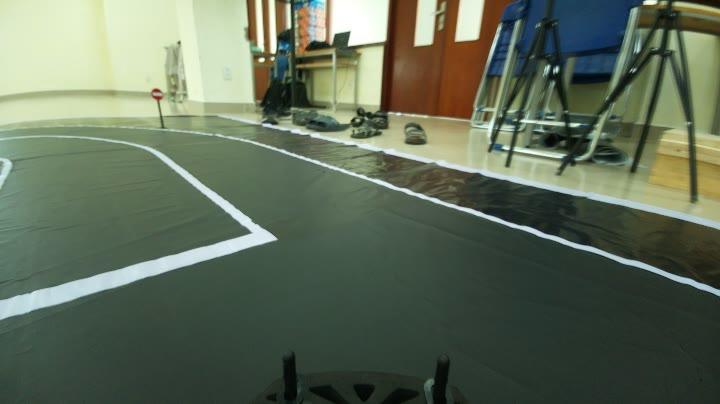no_entry: (151, 82, 165, 102)
